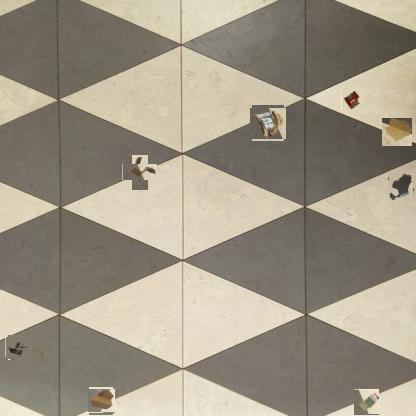dirty: (251, 106, 285, 140), (88, 388, 114, 414), (354, 389, 379, 415), (127, 160, 153, 185), (7, 336, 29, 359), (341, 88, 362, 110)
liquid: (382, 118, 412, 146), (388, 173, 414, 199)
